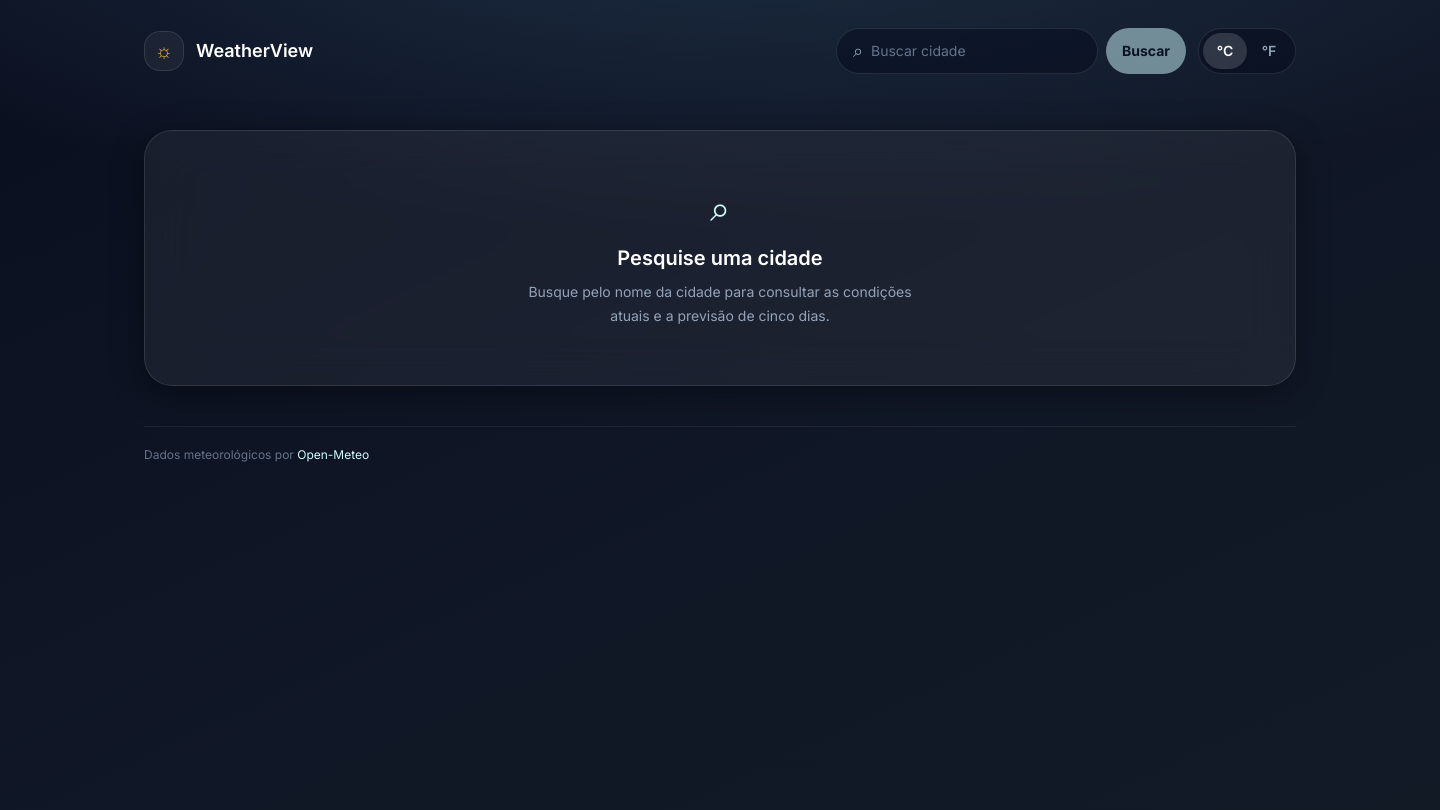
it: WeatherView › oferece retry e carrega o clima após uma falha
The width and height of the screenshot is (1440, 810).
Type "Lisboa" into the search field labelled "Buscar cidade". click: (976, 51)
box: [871,29,1081,73]
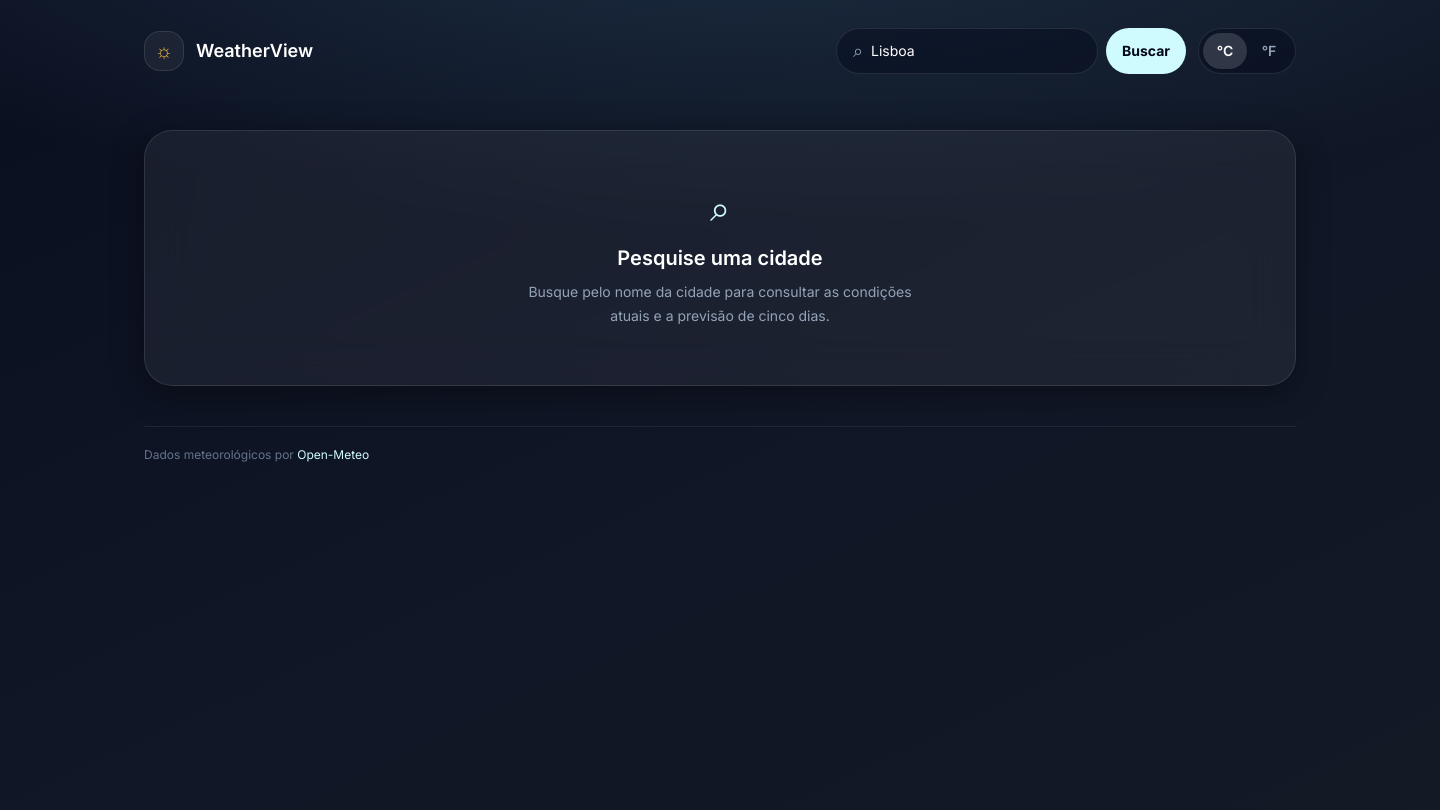
Click the button "Buscar". click: (1146, 51)
box: [1106,28,1186,74]
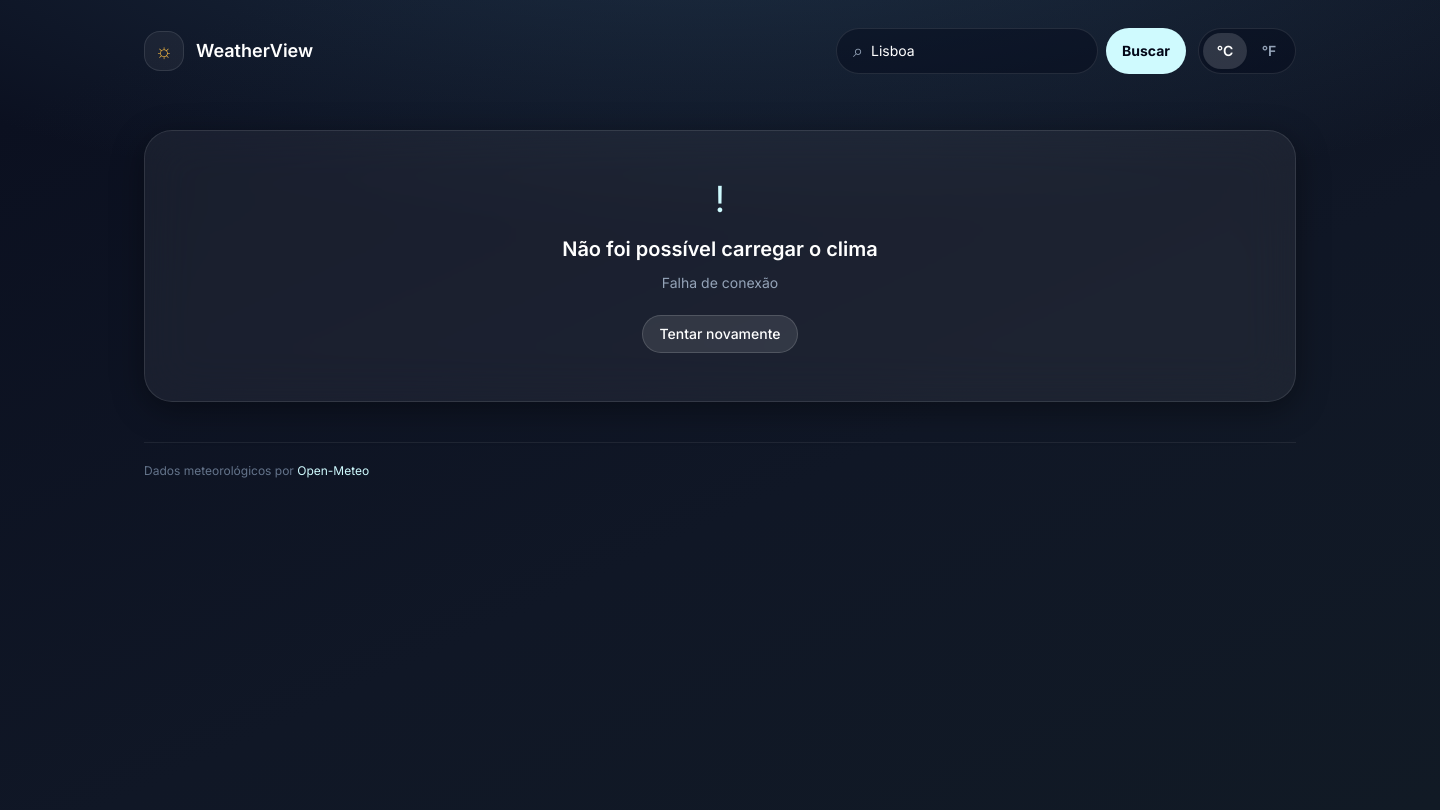
expect the text "Falha de conexão" is shown: met, box [662,271,778,295]
Click the button "Tentar novamente". click: (720, 334)
box: [642,315,798,353]
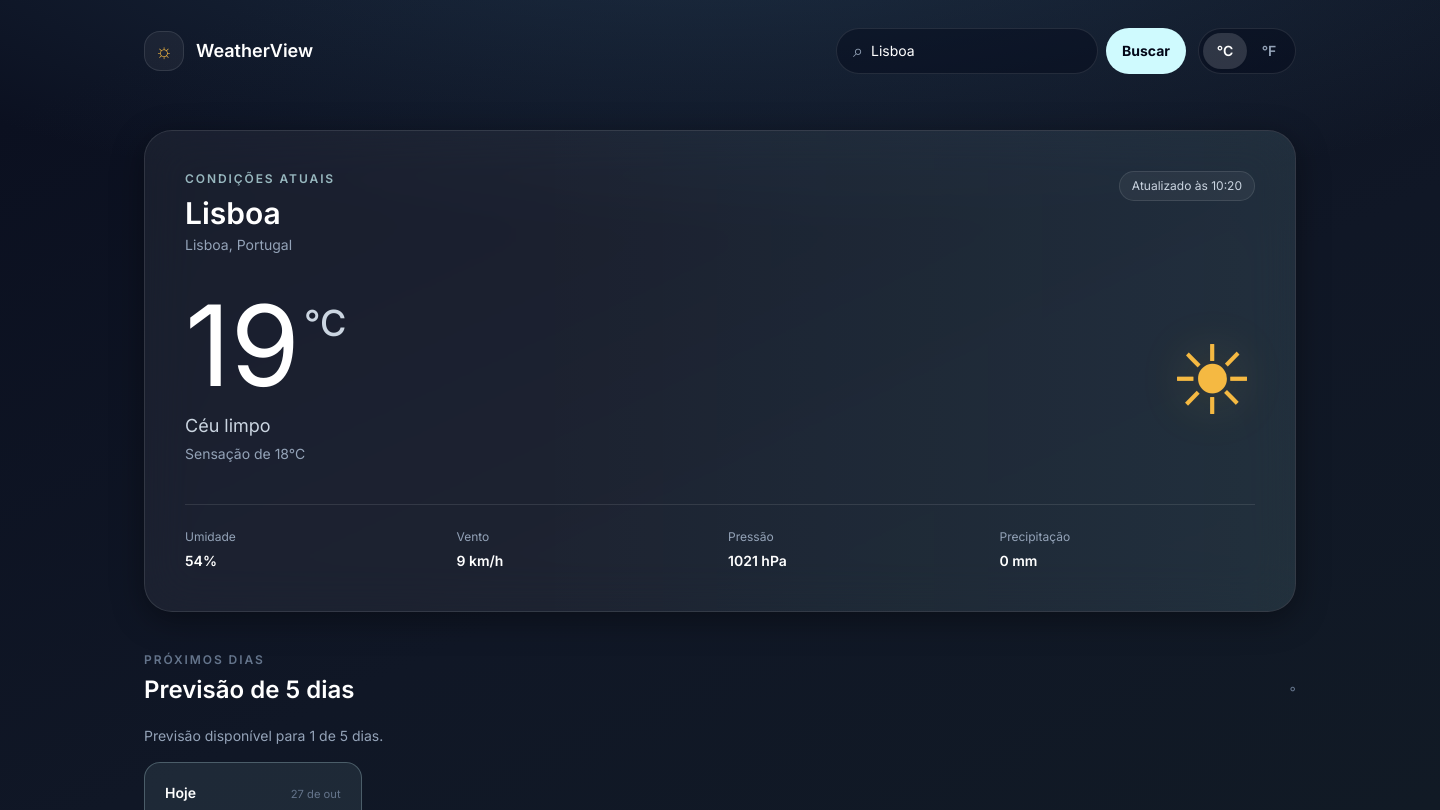
expect the heading "Lisboa" is shown: met, box [185,195,281,231]
